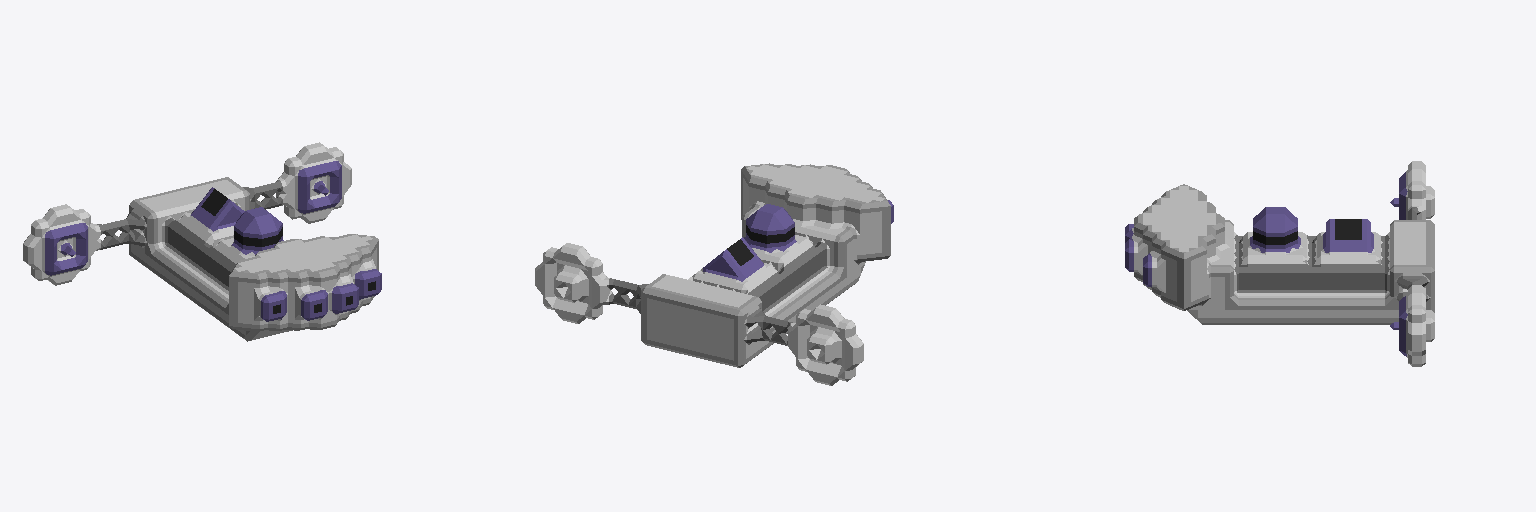
3 renders of one model, left to right at view 1: azimuth 30°, elevation 25°; view 2: azimuth 150°, elevation 25°; view 3: azimuth 270°, elevation 25°, orthographic.
Bounding box in the file's own units: 41 × 11 × 34.
1 materials, 1 textured.